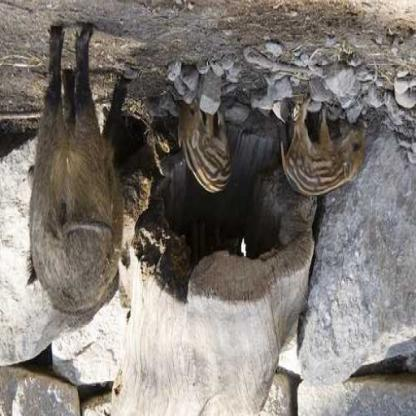boar: (0, 36, 137, 348), (266, 82, 379, 215), (171, 92, 222, 206)
